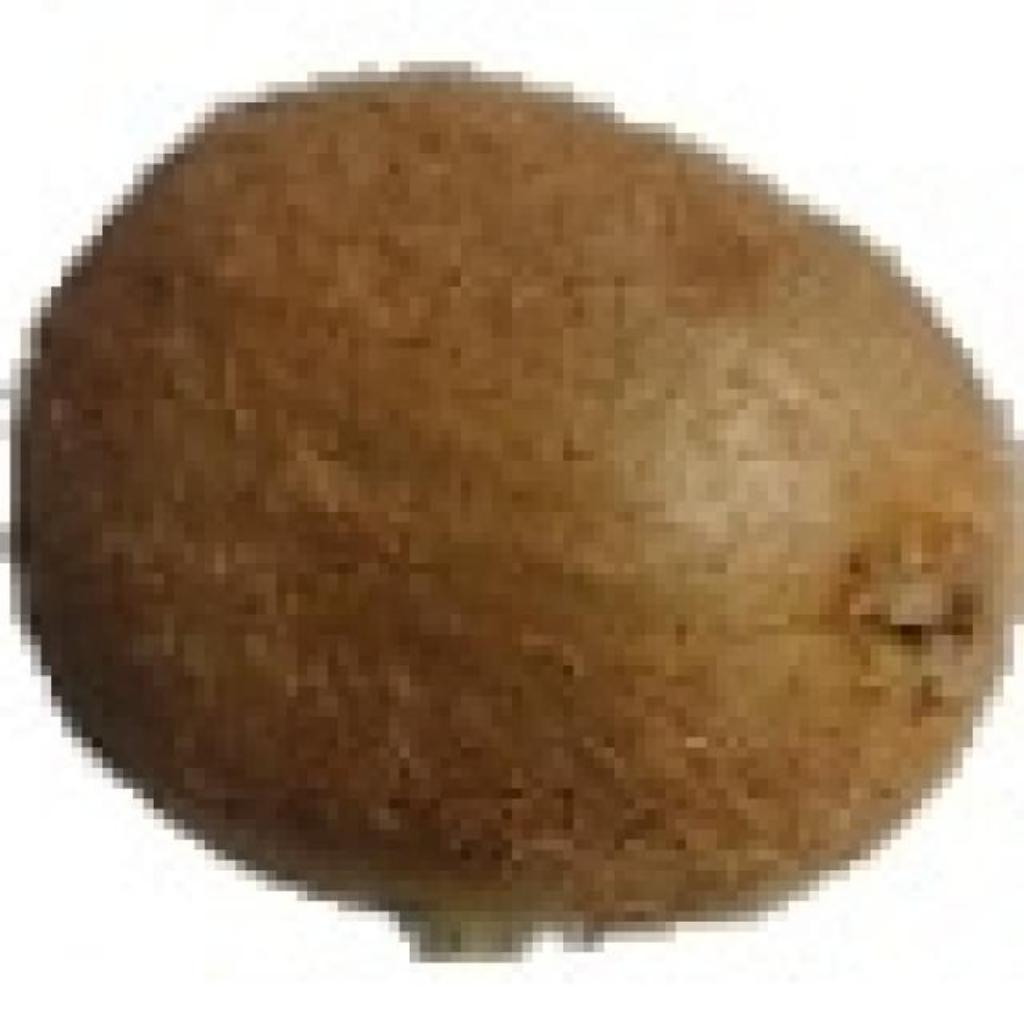kiwi: (31, 61, 1014, 922)
